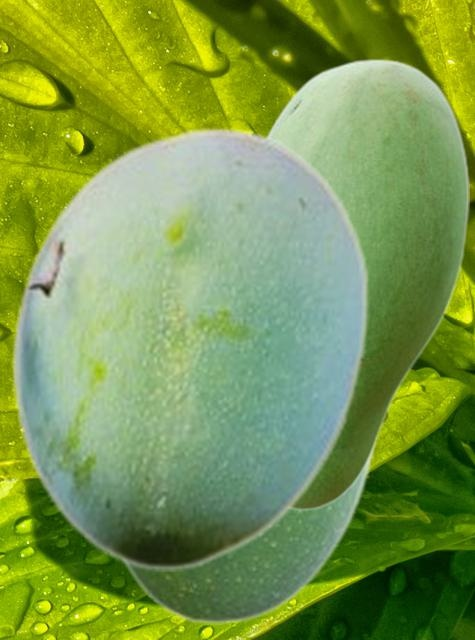green_mango: (10, 126, 369, 570), (265, 58, 468, 510), (120, 437, 380, 623)
